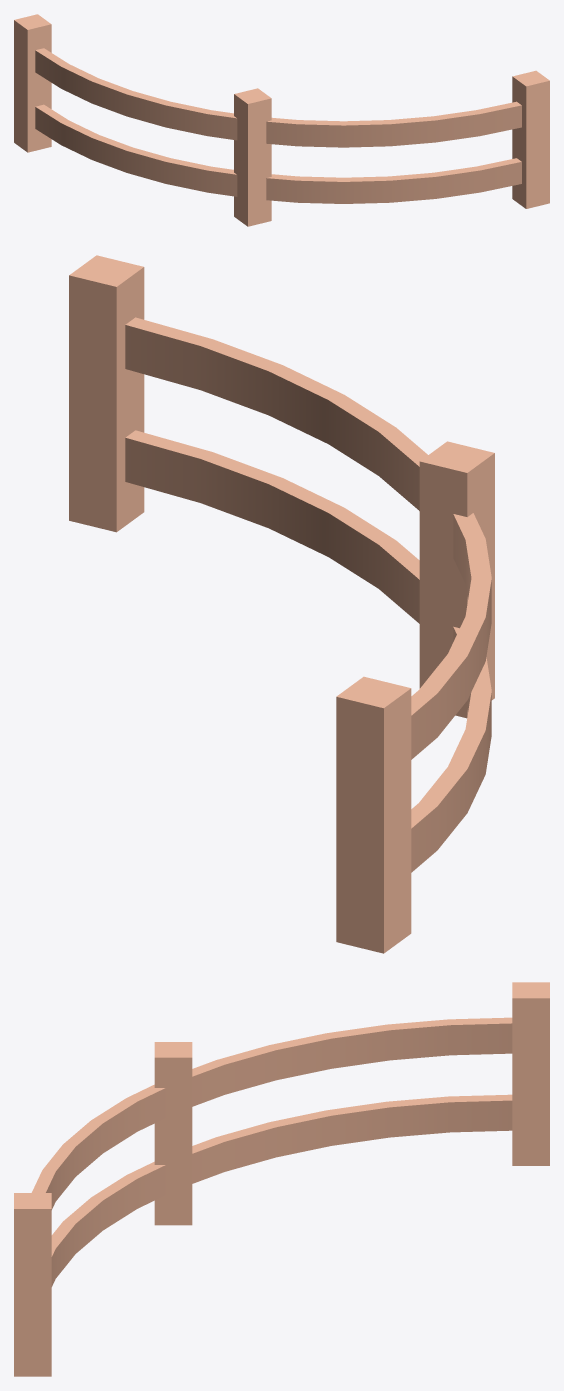
The picture shows the model from 3 angles, top to bottom: view 1: azimuth 30°, elevation 25°; view 2: azimuth 150°, elevation 25°; view 3: azimuth 270°, elevation 25°; orthographic projection. The views are drawn at different scales.
Parts seen in each view (by area): view 1: fence_bendCenter; view 2: fence_bendCenter; view 3: fence_bendCenter.
Part boxes in pixels (x1=…): fence_bendCenter: x1=14, y1=14, x2=549, y2=226; fence_bendCenter: x1=69, y1=255, x2=494, y2=953; fence_bendCenter: x1=14, y1=982, x2=549, y2=1376.
Size of the model in its own units: 1 by 0.345 by 1.
